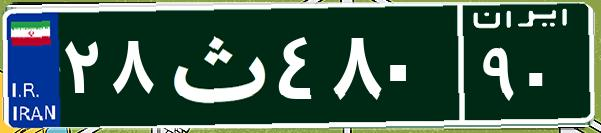0: (385, 28, 445, 110), (525, 38, 570, 115)
2: (57, 26, 110, 107)
4: (273, 28, 330, 110)
8: (330, 28, 385, 110), (110, 28, 158, 105)
9: (475, 38, 525, 113)
ث: (158, 15, 273, 115)
